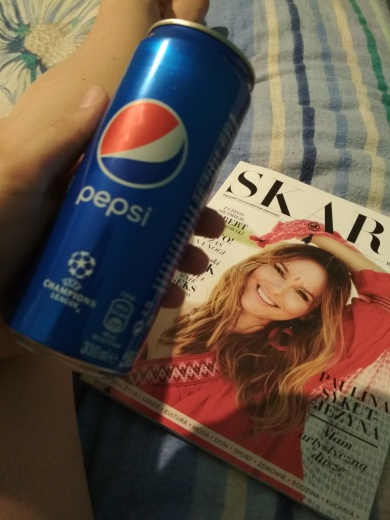pepsi: (5, 10, 261, 391)
